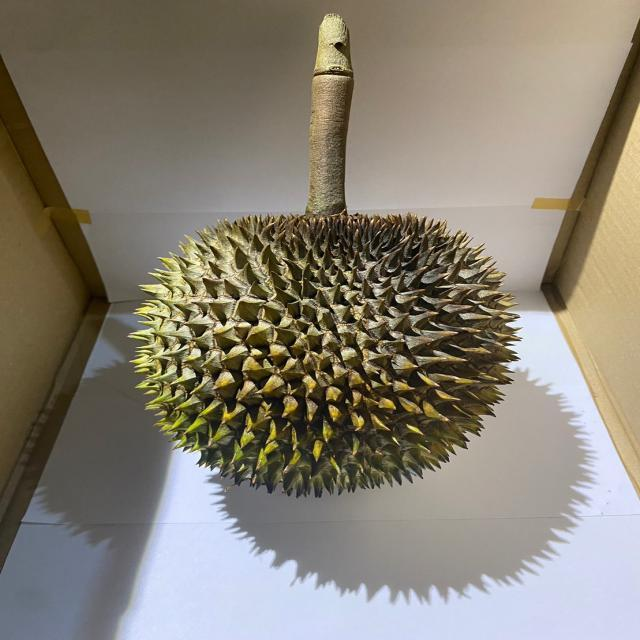immature: (126, 209, 520, 497)
